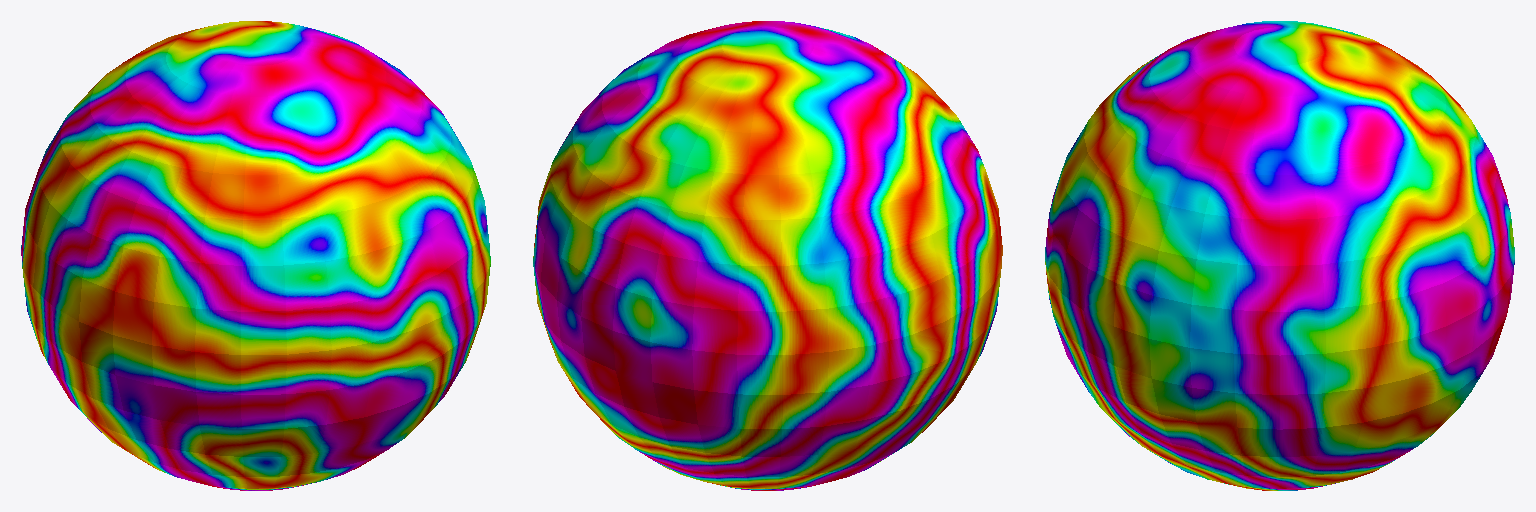
3 renders of one model, left to right at view 1: azimuth 30°, elevation 25°; view 2: azimuth 150°, elevation 25°; view 3: azimuth 270°, elevation 25°, orthographic.
Visible parts, largest first — view 1: Sphere_Sphere.003; view 2: Sphere_Sphere.003; view 3: Sphere_Sphere.003.
Part boxes in pixels (bbox=[...]): Sphere_Sphere.003: bbox=[21, 21, 490, 490]; Sphere_Sphere.003: bbox=[533, 21, 1002, 490]; Sphere_Sphere.003: bbox=[1045, 21, 1514, 490].
Bounding box in the file's own units: 2 × 2 × 2.
1 materials, 1 textured.